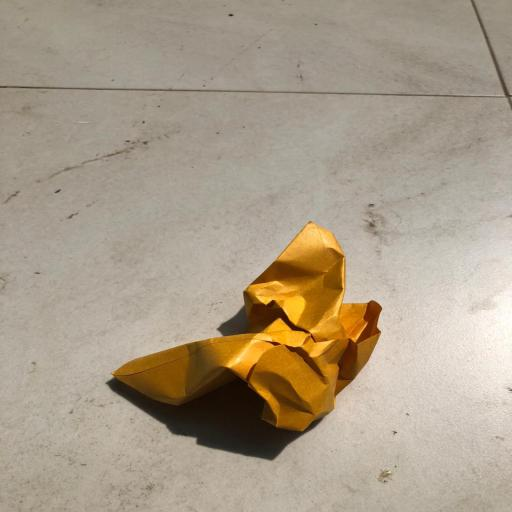waste: (92, 205, 405, 449)
